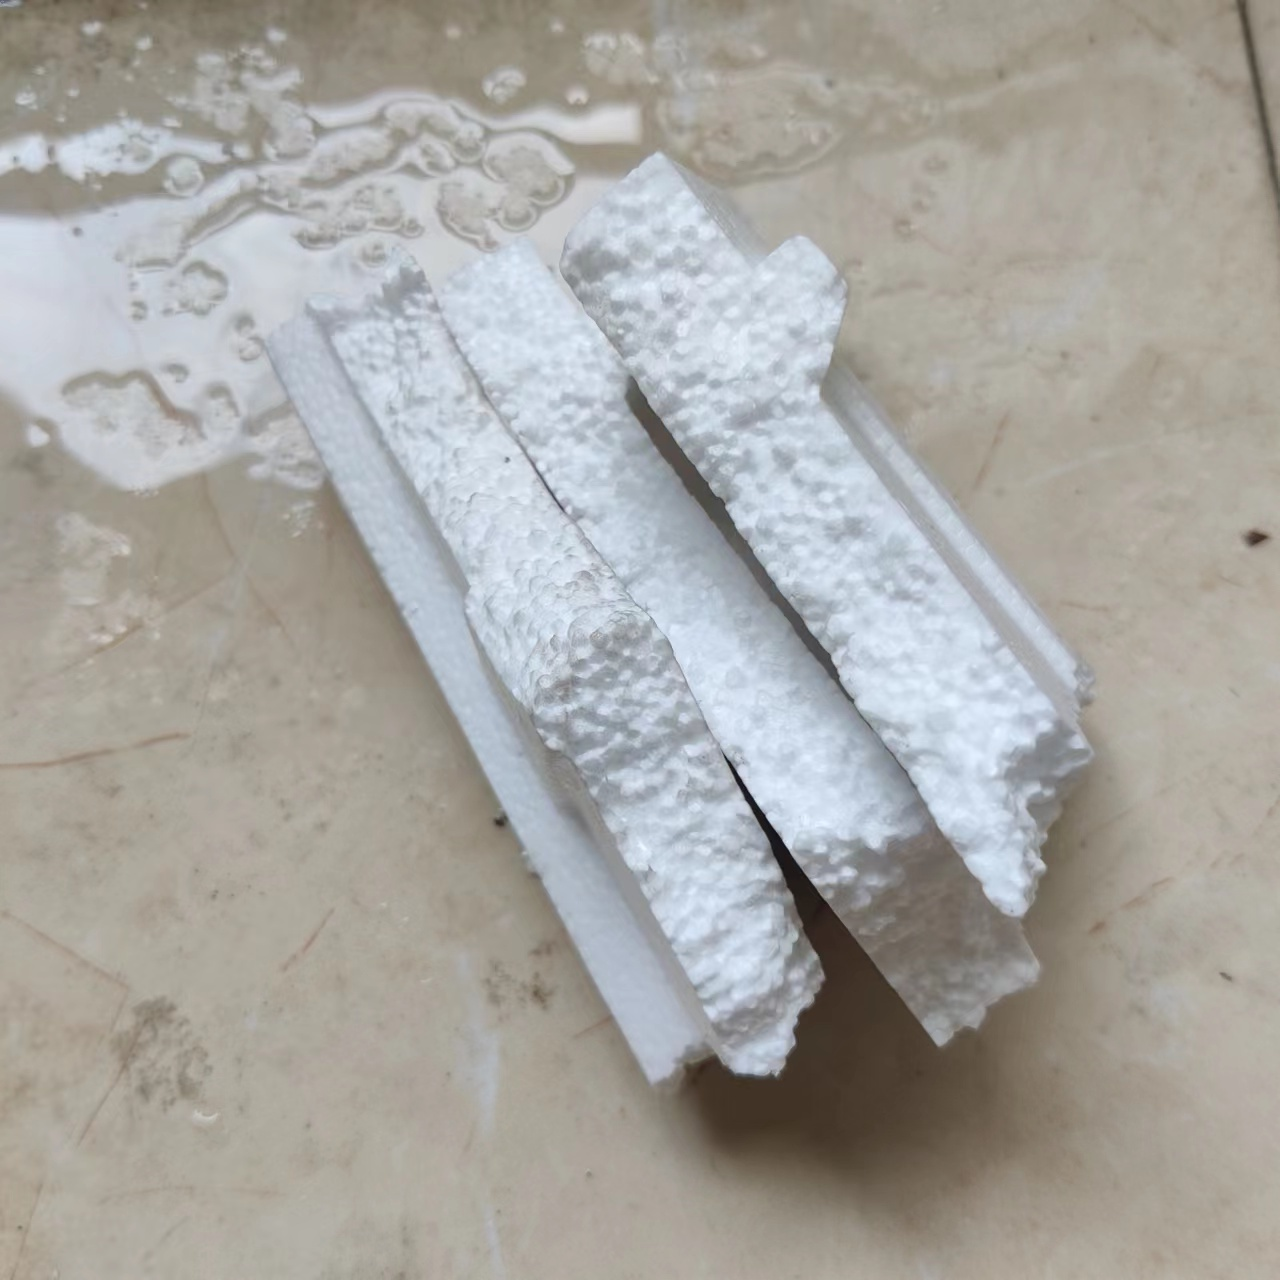5/可回收垃圾/泡沫: (434, 241, 1046, 1054), (263, 250, 826, 1099), (559, 154, 1098, 922)
